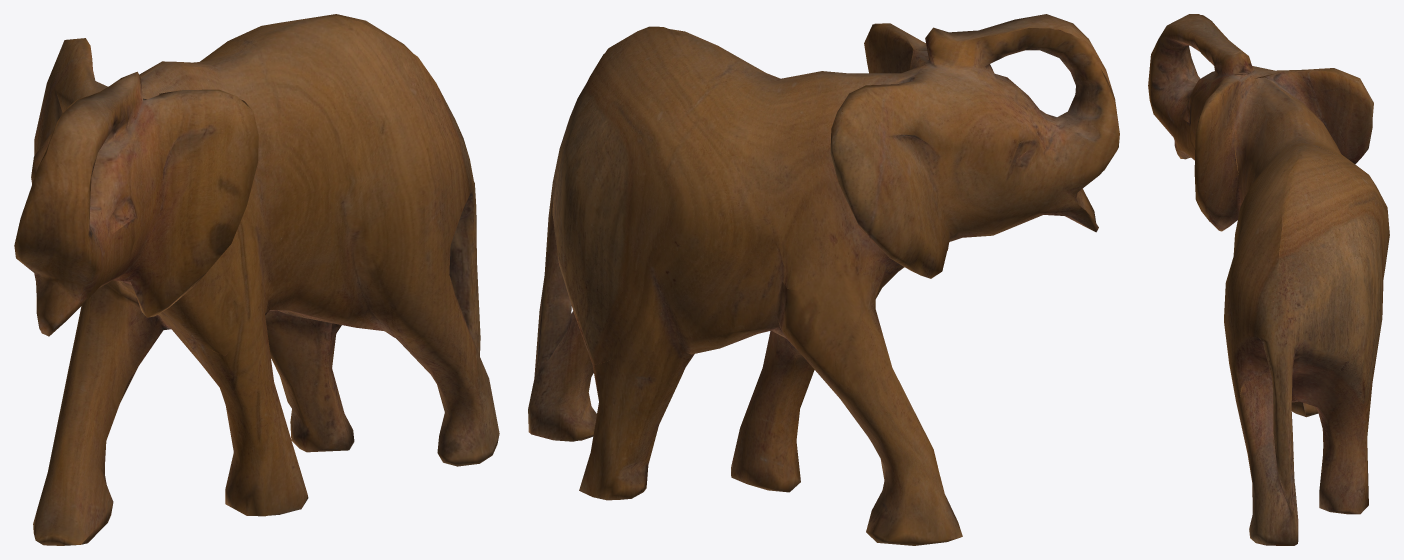
File: elephant.glb
The picture shows the model from 3 angles, left to right: view 1: azimuth 30°, elevation 25°; view 2: azimuth 150°, elevation 25°; view 3: azimuth 270°, elevation 25°; orthographic projection. The views are drawn at different scales.
Visible parts, largest first — view 1: carved_wooden_elephant; view 2: carved_wooden_elephant; view 3: carved_wooden_elephant.
Part boxes in pixels (x1,y1,x2,y2): carved_wooden_elephant: [14, 14, 499, 545]; carved_wooden_elephant: [528, 14, 1119, 545]; carved_wooden_elephant: [1148, 14, 1389, 545].
Bounding box in the file's own units: 1.64 × 1.44 × 0.8636.
1 material, 1 textured.
